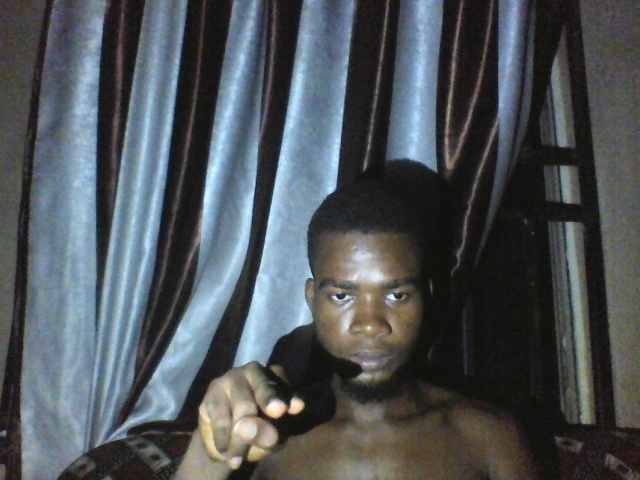no: (193, 349, 305, 480)
